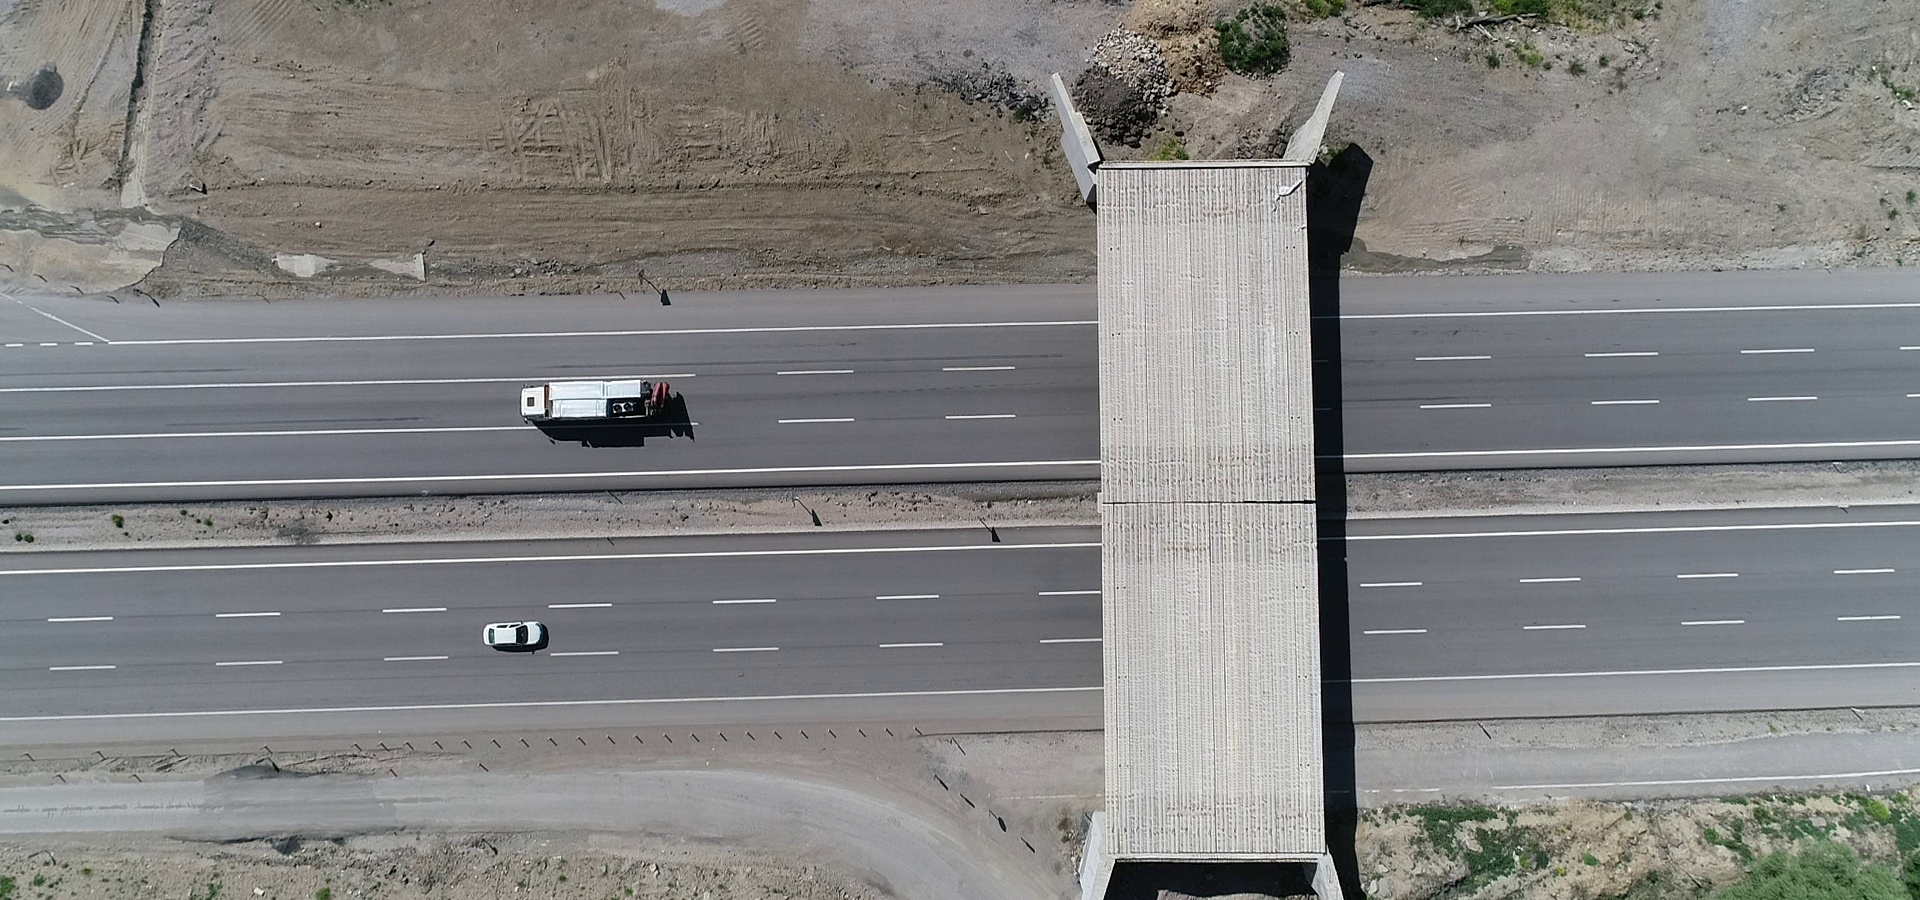arac: (516, 372, 692, 437), (478, 615, 551, 653)
